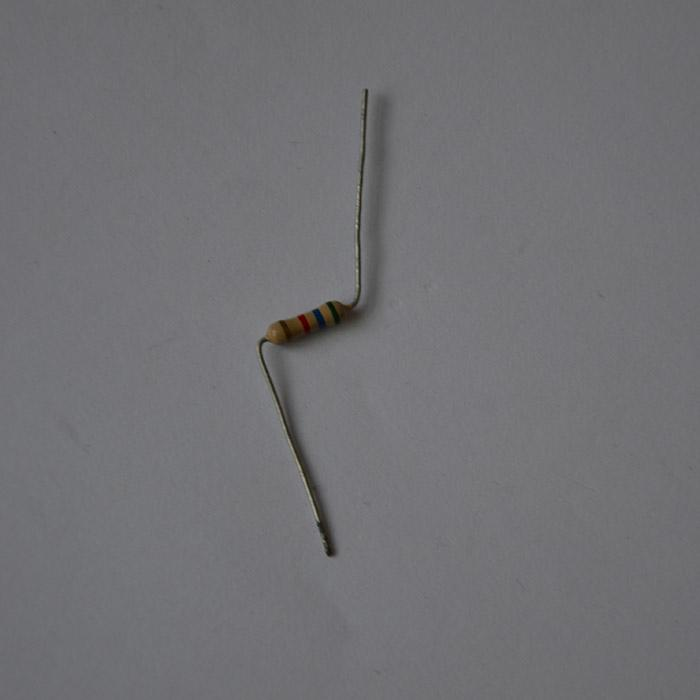resistor: (263, 299, 351, 346)
